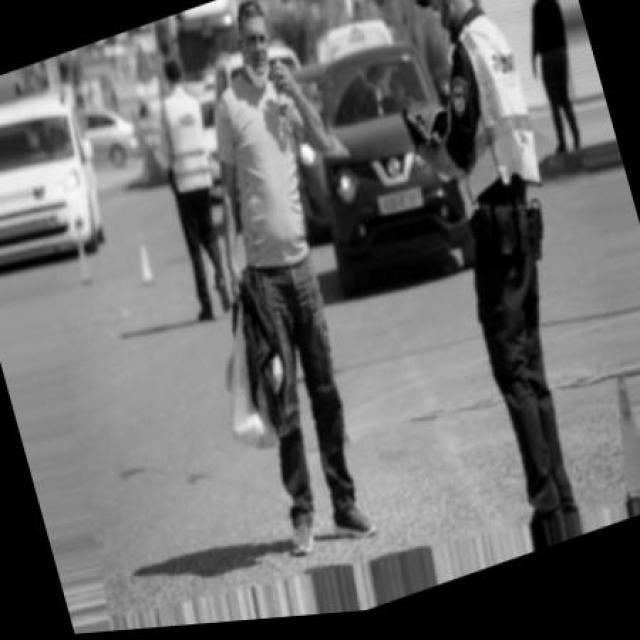hairnet: (236, 28, 277, 96)
